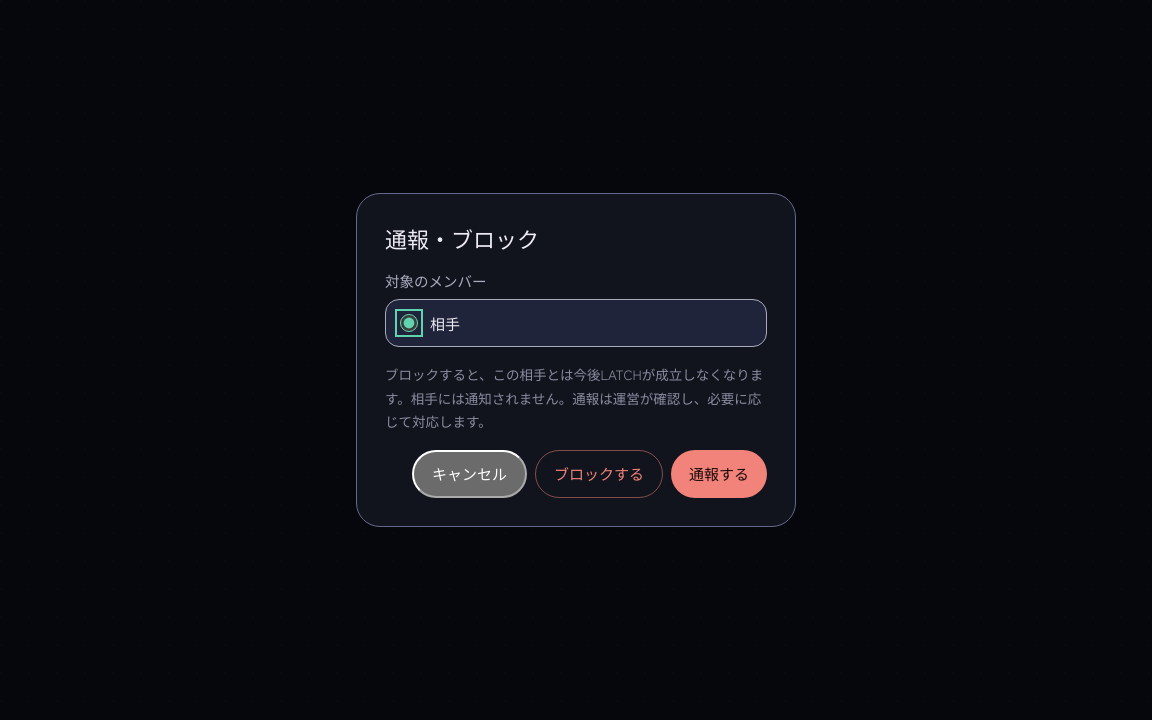
通報・ブロック統合dialog(D-09・プロトタイプ05) › 理由ステップのもどるで対象ステップへ戻る
The image size is (1152, 720).
Click the button "通報する" at {"x": 719, "y": 474}, box [671,450,767,498]
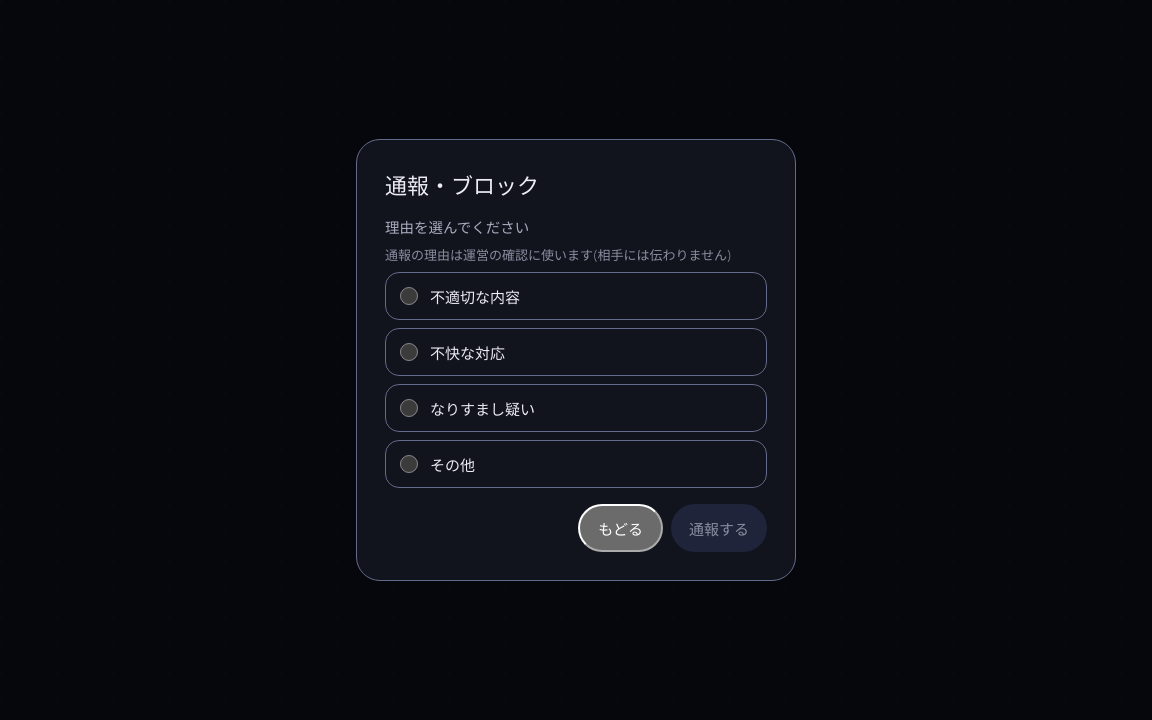
Check: the button "もどる" is shown
Click the button "もどる" at {"x": 621, "y": 528}, box [578,504,663,552]
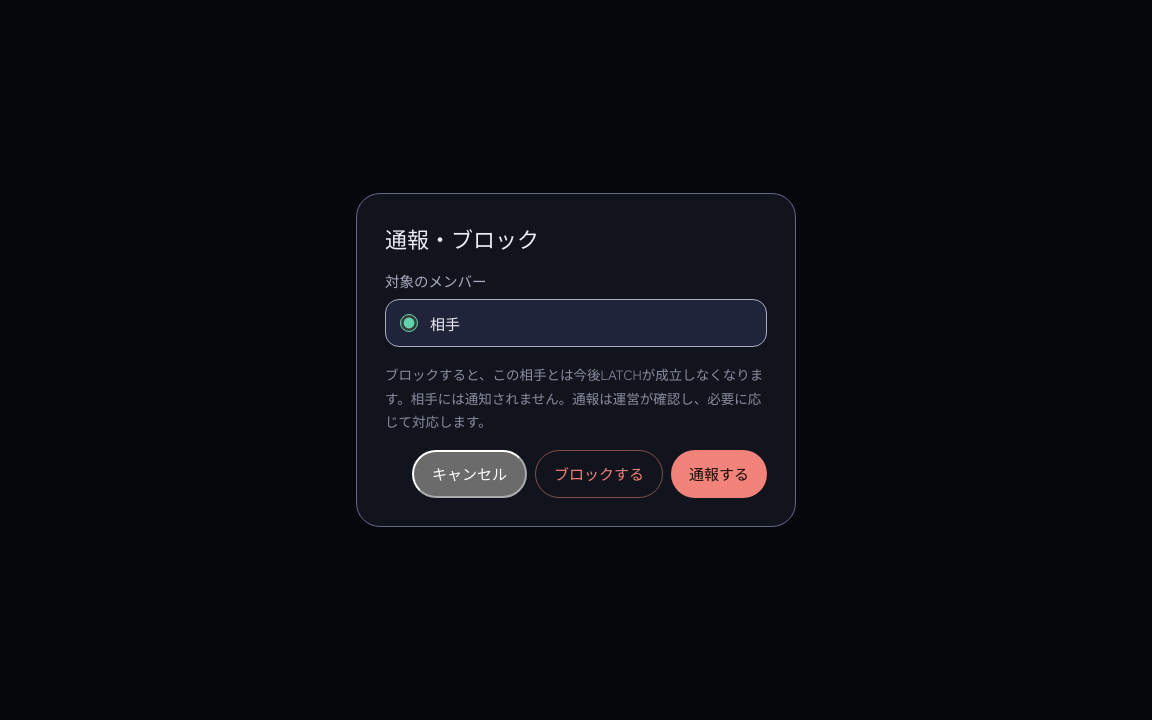
Check: the button "ブロックする" is shown, box [535,450,663,498]
